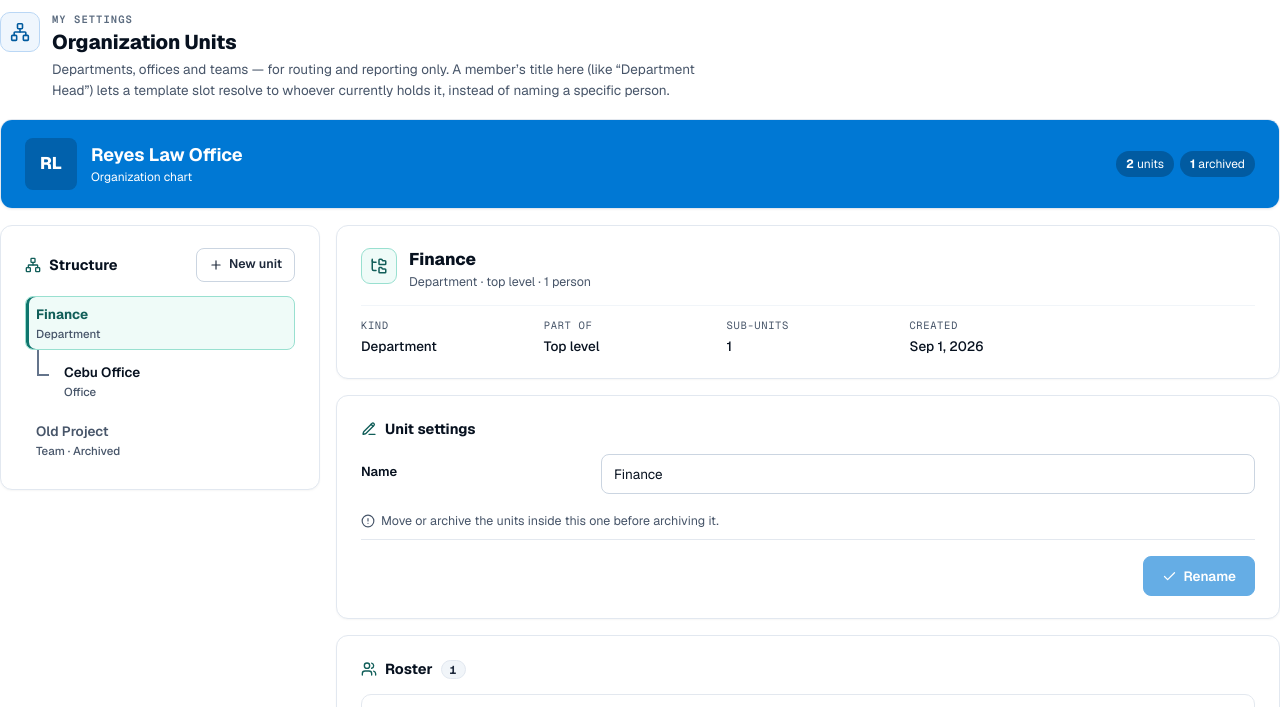
Test: Organization Units › archives a unit with no live sub-units
Step 1. Click the button with test id "org-unit-un_cebu" → x=174, y=381, box top-left (53, 354), bottom-right (295, 409)
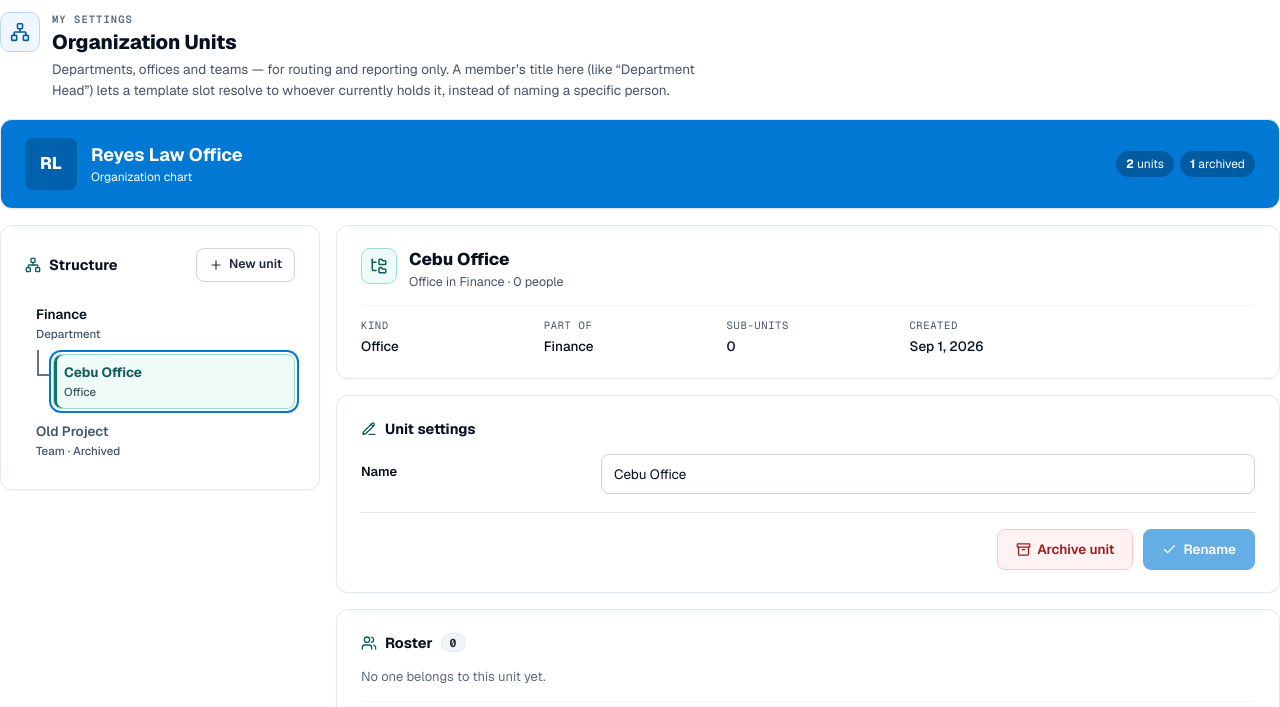
Step 2. Click the button "Archive unit" → x=1065, y=550, box top-left (997, 529), bottom-right (1133, 570)
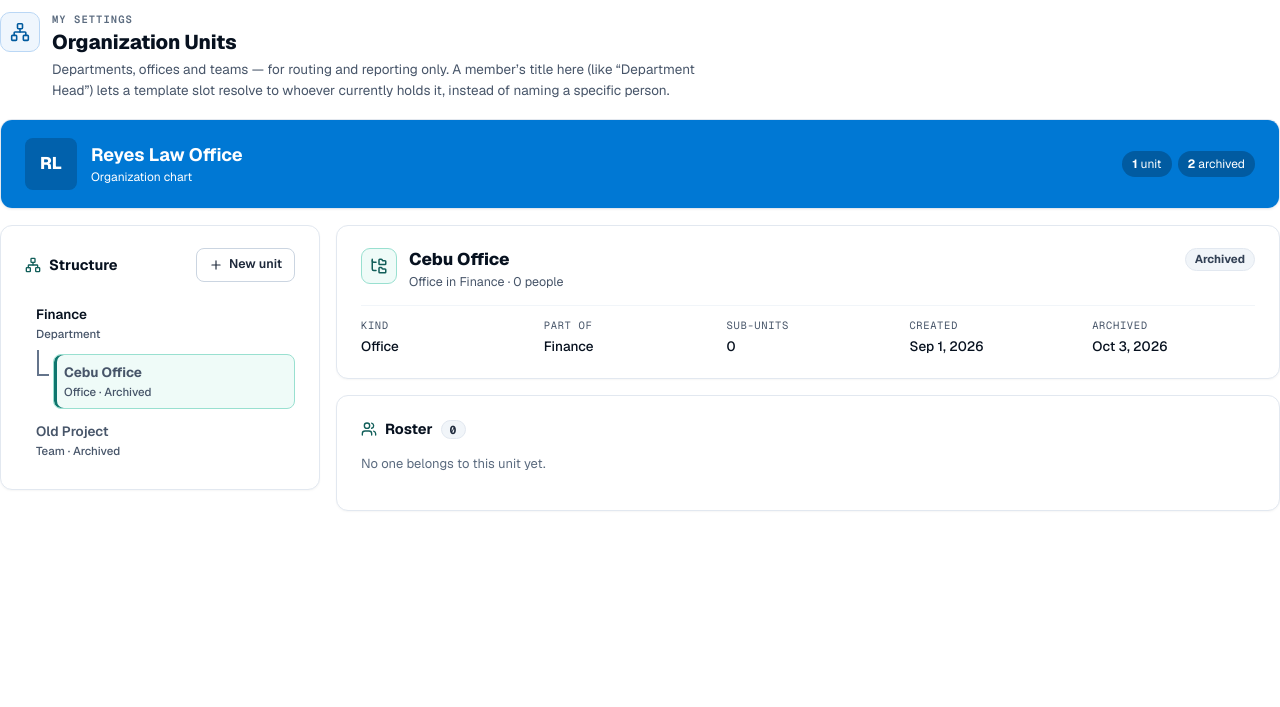
Expected: the button with test id "org-unit-un_cebu" shows "Office · Archived", top-left (53, 354), bottom-right (295, 409)
